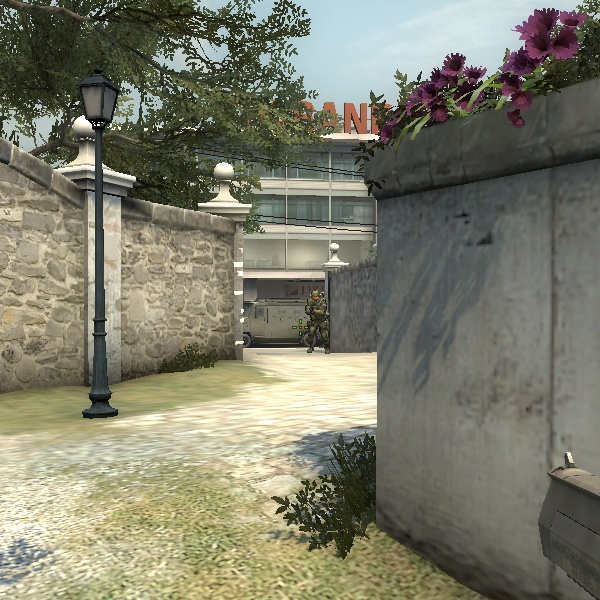ct_body: (298, 288, 333, 352)
ct_head: (309, 288, 323, 304)
